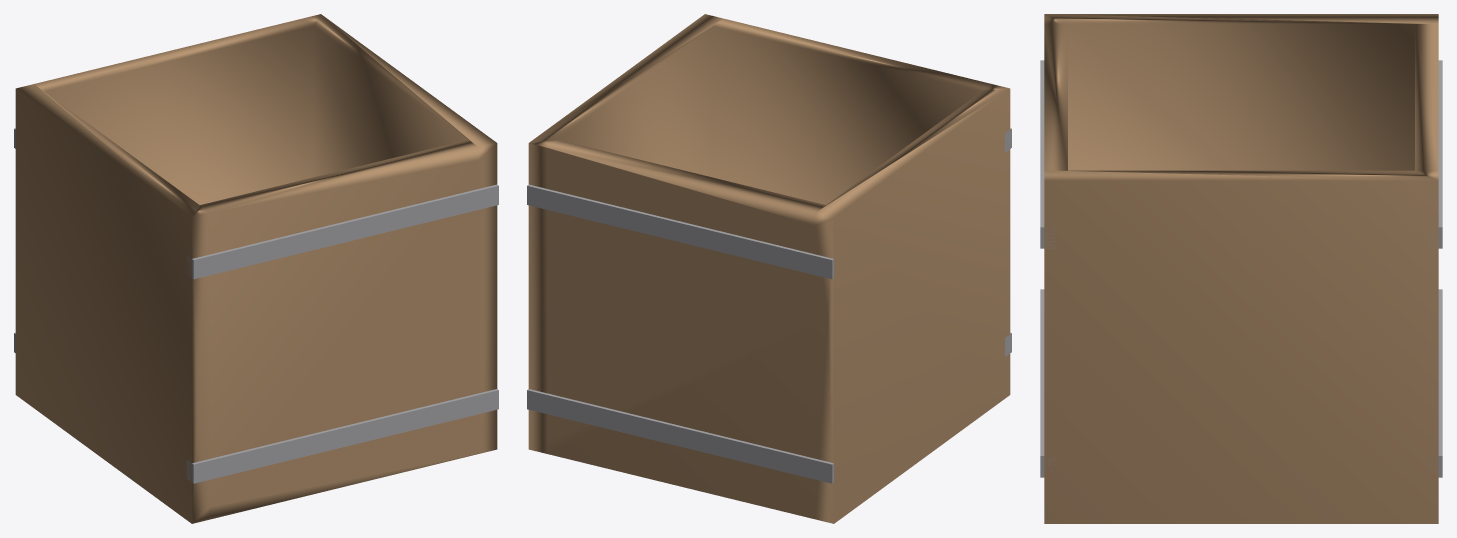
File: crate_wood.glb
3 views of the same model, side by side, from view 1: azimuth 30°, elevation 25°; view 2: azimuth 150°, elevation 25°; view 3: azimuth 270°, elevation 25° (orthographic). The views are drawn at different scales.
Visible parts, largest first — view 1: merged_wood_oak, band_bot, band_top; view 2: merged_wood_oak, band_top_b, band_bot_b; view 3: merged_wood_oak, band_top, band_top_b, band_bot, band_bot_b.
Boxes of the visible parts, bbox=[...] form: merged_wood_oak: bbox=[15, 14, 497, 523]; band_bot: bbox=[186, 389, 498, 483]; band_top: bbox=[186, 184, 498, 279]; merged_wood_oak: bbox=[528, 14, 1010, 523]; band_top_b: bbox=[527, 184, 833, 279]; band_bot_b: bbox=[527, 389, 833, 483]; merged_wood_oak: bbox=[1044, 14, 1438, 523]; band_top: bbox=[1040, 60, 1055, 248]; band_top_b: bbox=[1427, 60, 1442, 248]; band_bot: bbox=[1040, 289, 1055, 477]; band_bot_b: bbox=[1427, 289, 1442, 477].
Bounding box in the file's own units: 0.5 × 0.48 × 0.51.
